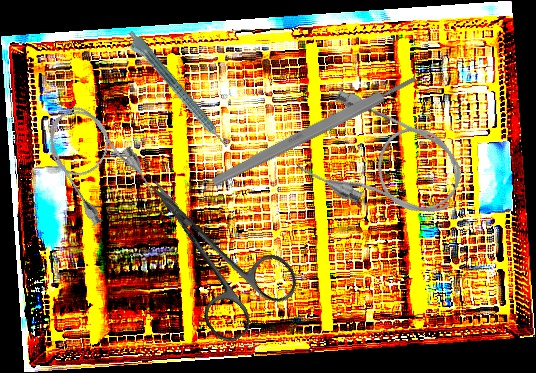Cannula: (292, 83, 475, 240), (33, 92, 161, 233)
Handpiece: (121, 28, 231, 155)
Iris Scissors: (116, 149, 306, 349)
Scalpel Handle: (210, 73, 419, 189)
